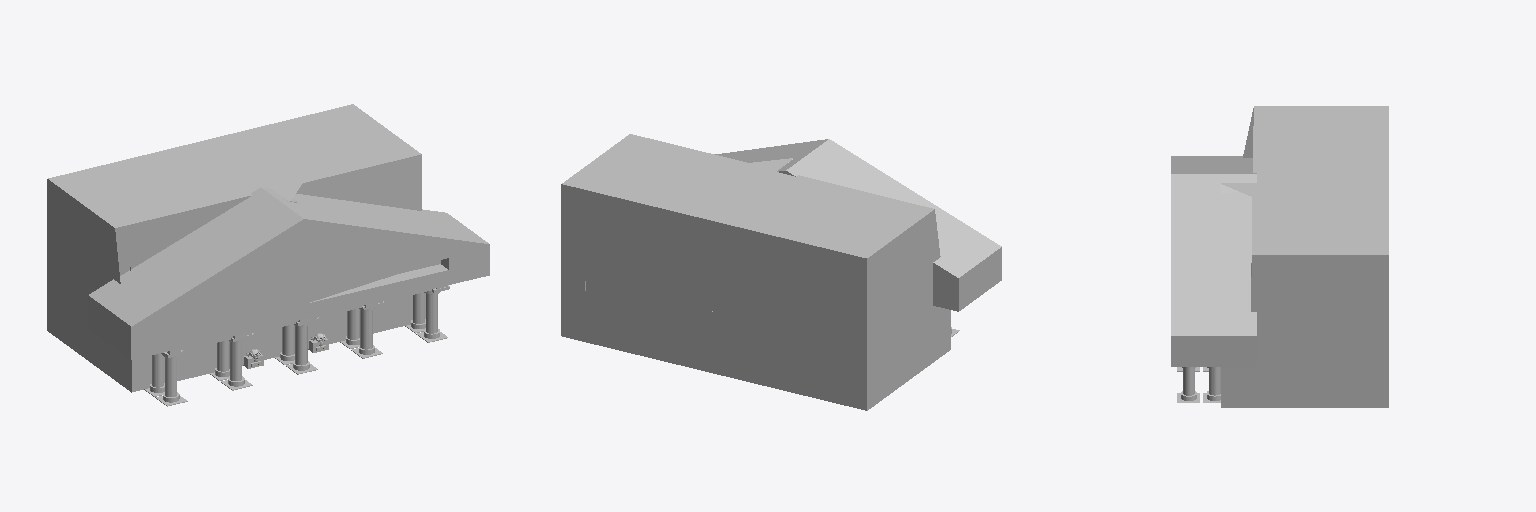
The model's file is grand_building_alpha.obj.
3 views of the same model, side by side, from view 1: azimuth 30°, elevation 25°; view 2: azimuth 150°, elevation 25°; view 3: azimuth 270°, elevation 25° (orthographic).
Parts seen in each view (by area): view 1: Cube.030_Cube.176, Cube.029_Cube.022; view 2: Cube.030_Cube.176, Cube.029_Cube.022; view 3: Cube.030_Cube.176, Cube.029_Cube.022.
Part boxes in pixels (x1,y1,x2,y2): Cube.030_Cube.176: (47, 104, 425, 392); Cube.029_Cube.022: (88, 187, 489, 359); Cube.030_Cube.176: (561, 134, 950, 410); Cube.029_Cube.022: (715, 139, 1001, 311); Cube.030_Cube.176: (1221, 106, 1388, 407); Cube.029_Cube.022: (1171, 156, 1256, 366).
Bounding box in the file's own units: 218 × 91.36 × 115.